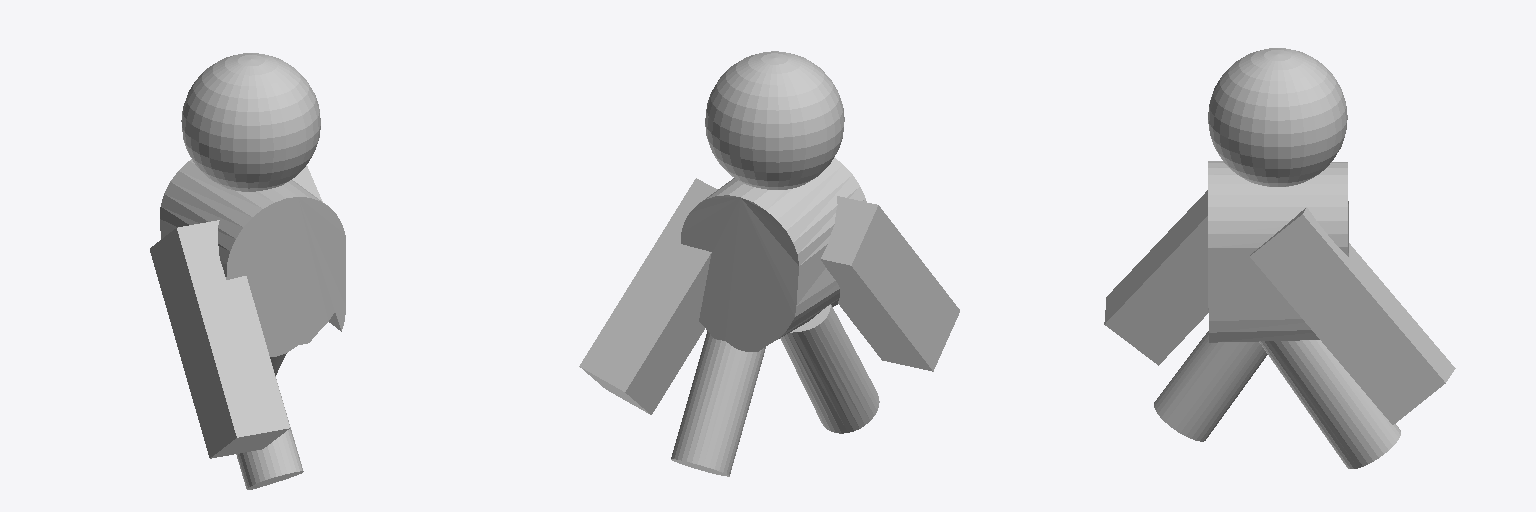
Rendered from Figurine144.obj.
The picture shows the model from 3 angles: view 1: azimuth 30°, elevation 25°; view 2: azimuth 150°, elevation 25°; view 3: azimuth 270°, elevation 25°; orthographic projection.
Parts seen in each view (by area): view 1: Cylinder; view 2: Cylinder; view 3: Cylinder.
Boxes of the visible parts, x1=… form: Cylinder: x1=150, y1=53, x2=345, y2=489; Cylinder: x1=579, y1=51, x2=959, y2=476; Cylinder: x1=1104, y1=48, x2=1455, y2=468.
Bounding box in the file's own units: 3.49 × 6.27 × 5.02.